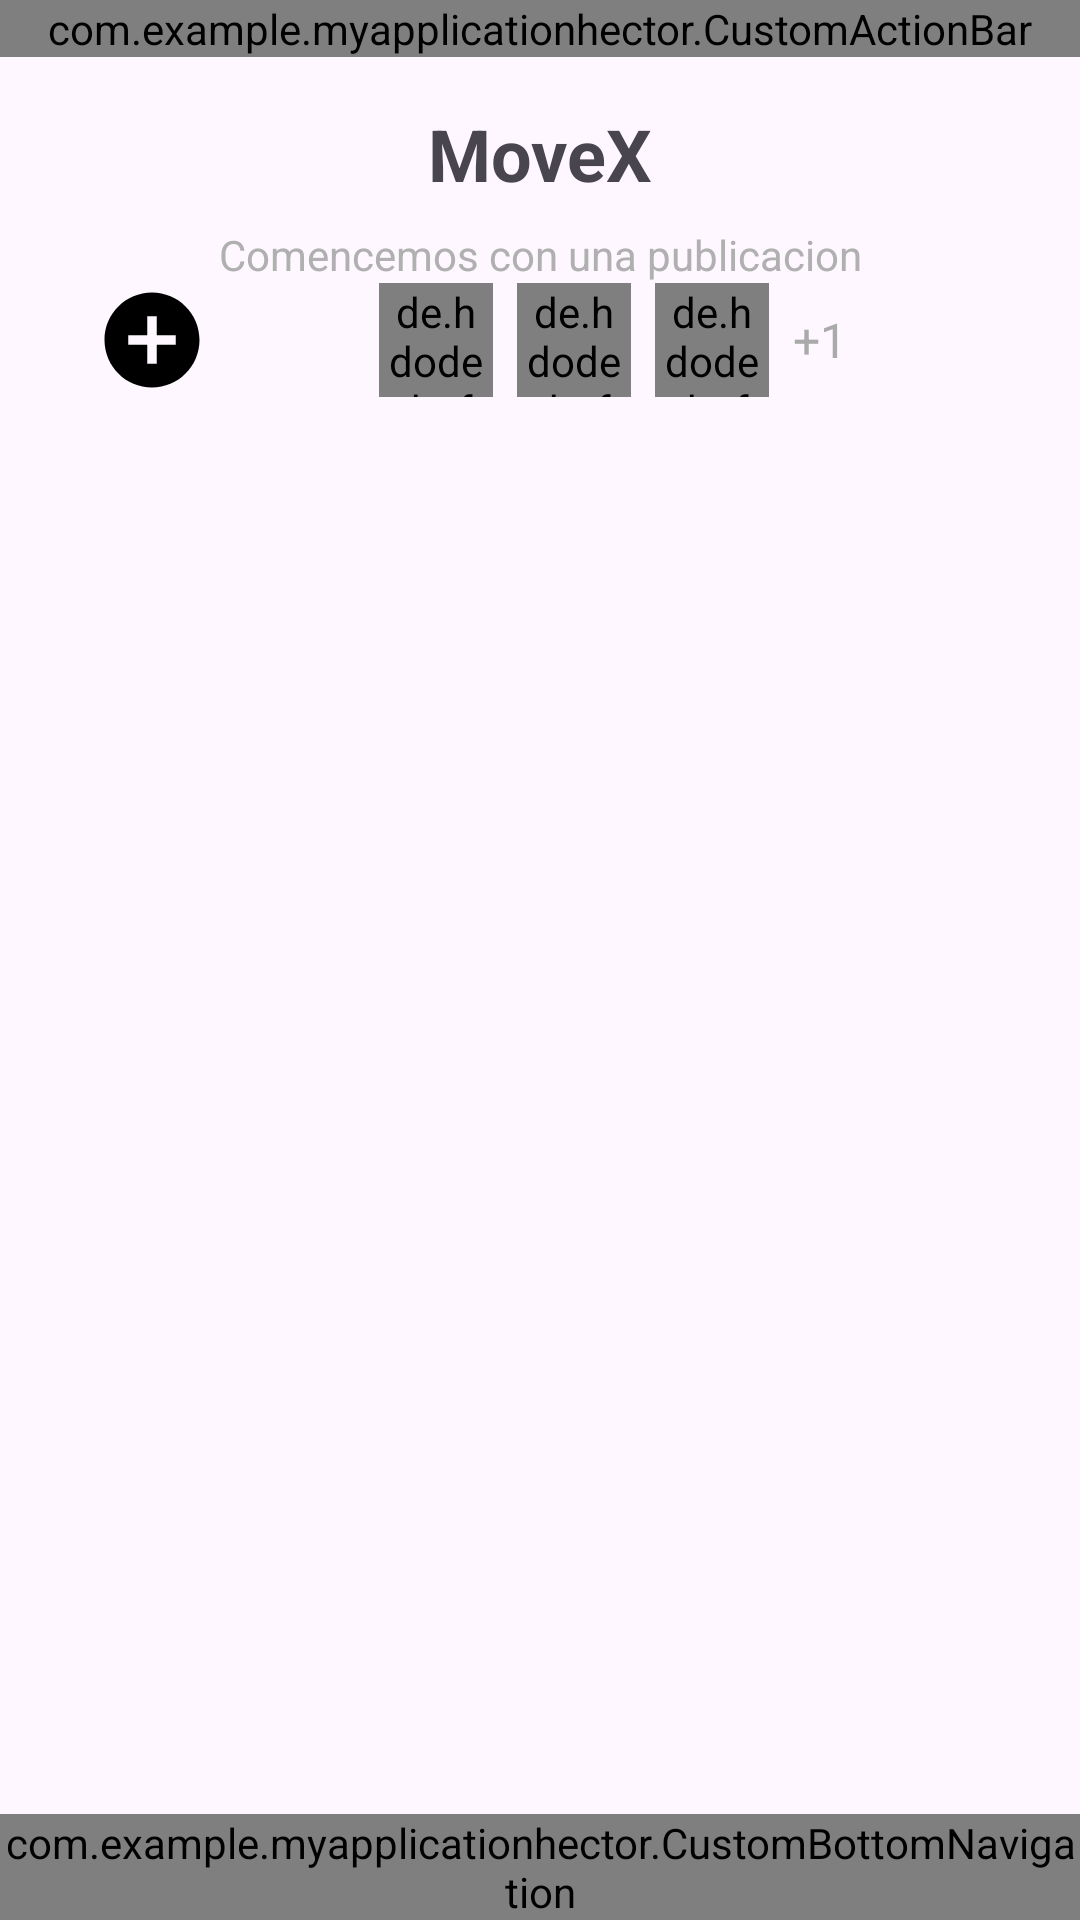

Where to tap for icons on this 1080px x 1920px app screen, as [x,y]:
Subir Post: [152,340]
